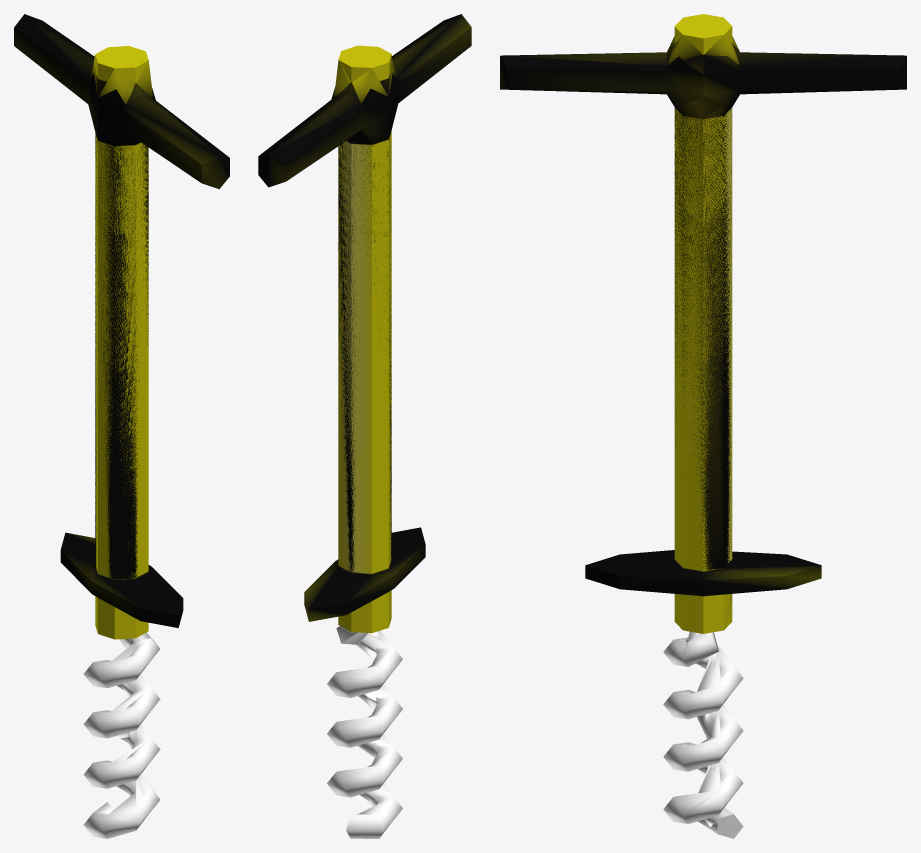
Rendered from item_pogostick.glb.
The picture shows the model from 3 angles, left to right: view 1: azimuth 30°, elevation 25°; view 2: azimuth 150°, elevation 25°; view 3: azimuth 270°, elevation 25°; orthographic projection. The views are drawn at different scales.
Visible parts, largest first — view 1: Base, Spring; view 2: Base, Spring; view 3: Base, Spring.
Boxes of the visible parts, x1=… form: Base: x1=14, y1=14, x2=229, y2=639; Spring: x1=83, y1=632, x2=160, y2=838; Base: x1=258, y1=14, x2=471, y2=633; Spring: x1=327, y1=626, x2=402, y2=838; Base: x1=500, y1=14, x2=906, y2=633; Spring: x1=663, y1=631, x2=743, y2=838.
Size of the model in its own units: 0.05 by 0.6206 by 0.2814.
